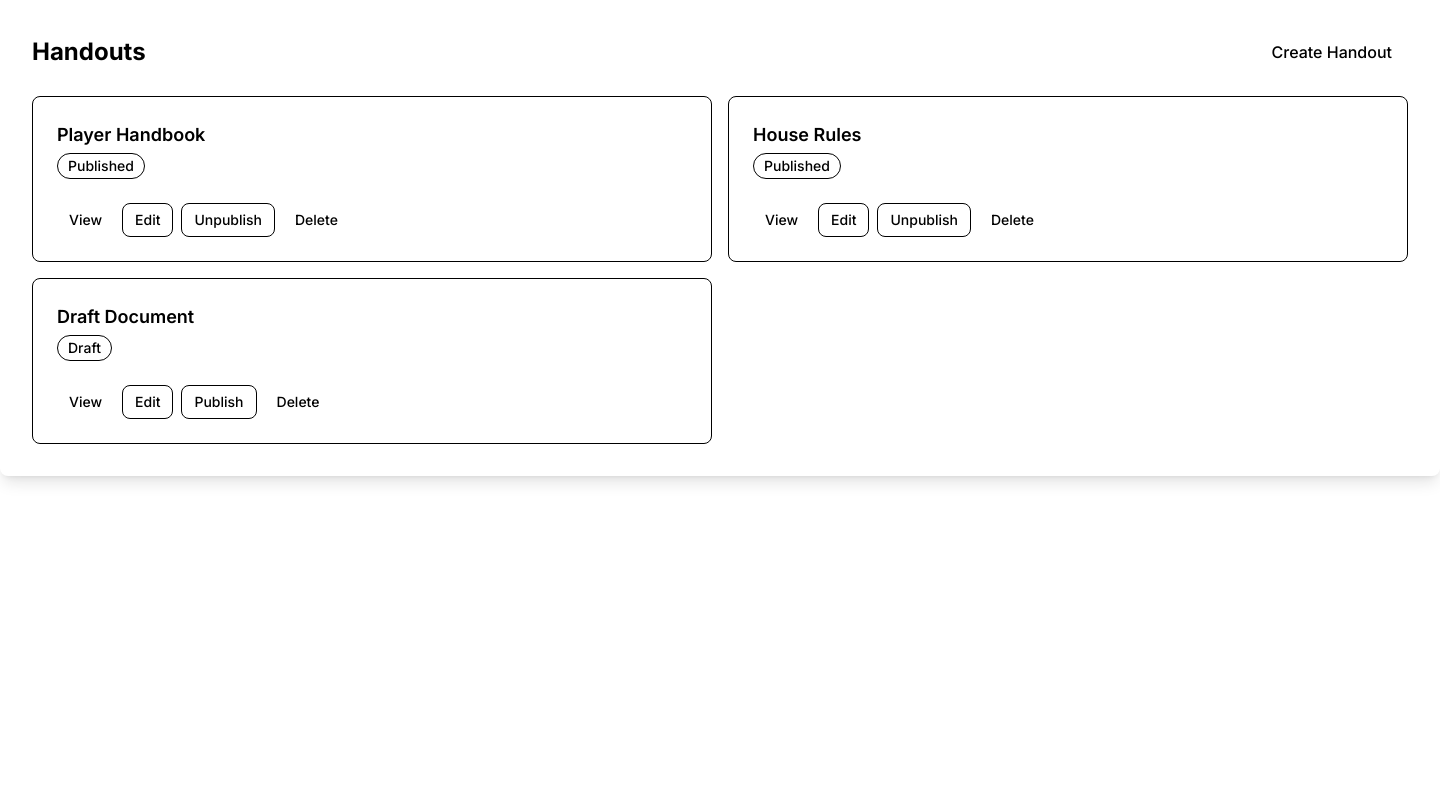
Test: HandoutsList › Edit Handout Modal › opens edit modal when handout edited
// Click edit on first handout
Click the button "Edit" below "Player Handbook": (148,220) [122,203,174,237]
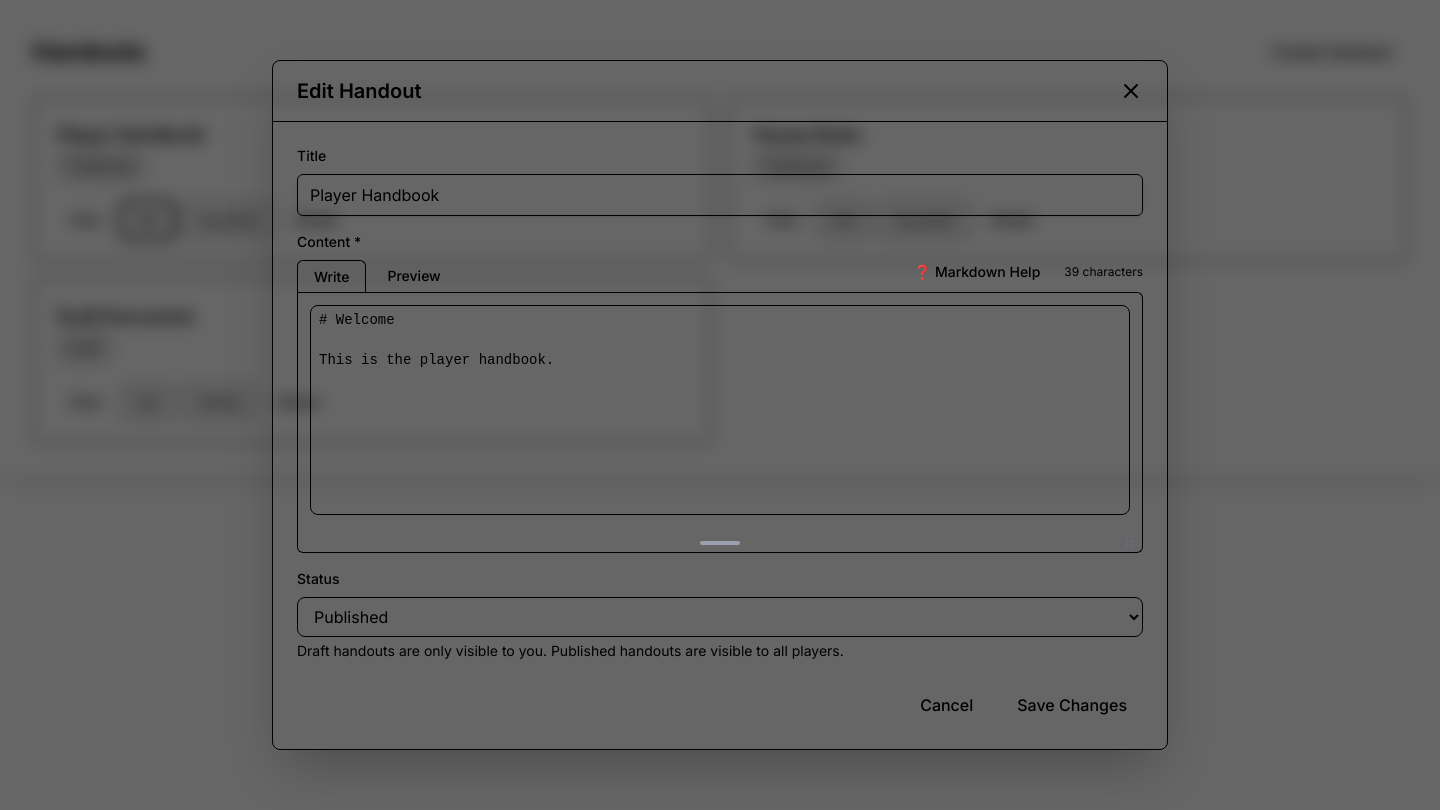
Expected: the heading "Edit Handout" is shown, [297,77,422,105]
Expected: the field showing "Player Handbook" is shown, [297,174,1143,216]
